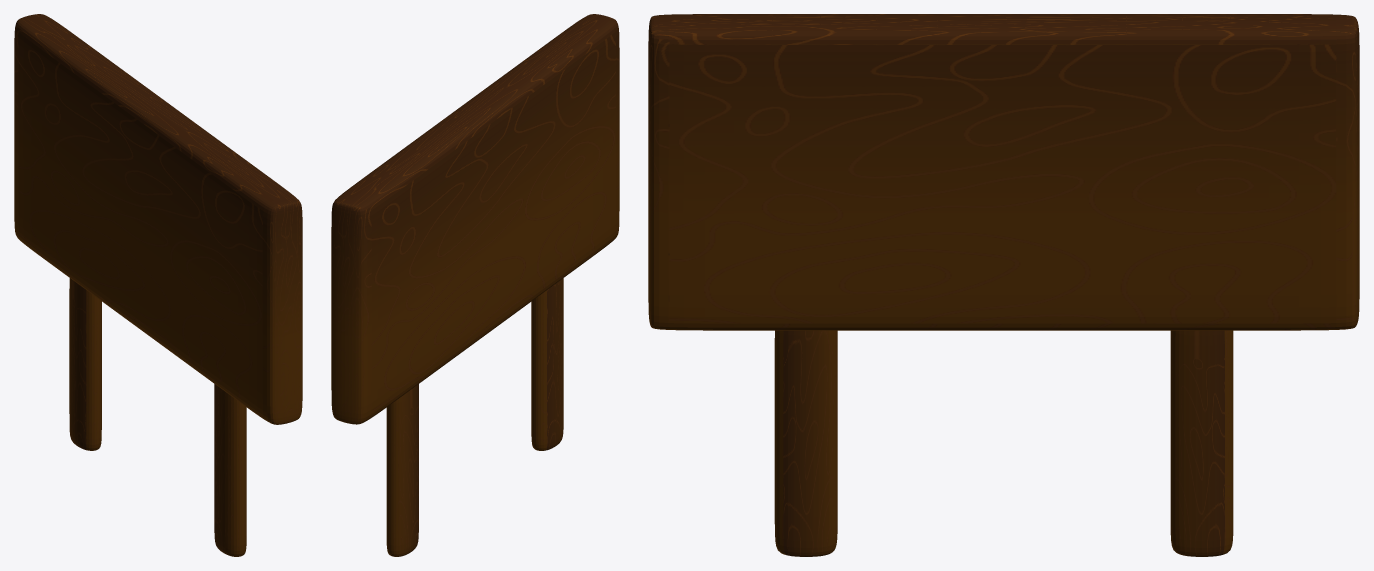
The model's file is 告示牌.fbx.
The picture shows the model from 3 angles, left to right: view 1: azimuth 30°, elevation 25°; view 2: azimuth 150°, elevation 25°; view 3: azimuth 270°, elevation 25°; orthographic projection. The views are drawn at different scales.
Parts seen in each view (by area): view 1: Cube, 立方体; view 2: Cube, 立方体; view 3: Cube, 立方体.
Part boxes in pixels (left/top/right/bottom): Cube: left=14, top=14, right=302, bottom=424; 立方体: left=69, top=278, right=246, bottom=556; Cube: left=331, top=14, right=619, bottom=424; 立方体: left=386, top=278, right=563, bottom=556; Cube: left=648, top=14, right=1359, bottom=330; 立方体: left=774, top=330, right=1233, bottom=556.
Size of the model in its own units: 46.14 by 452 by 549.
1 material, 1 textured.
